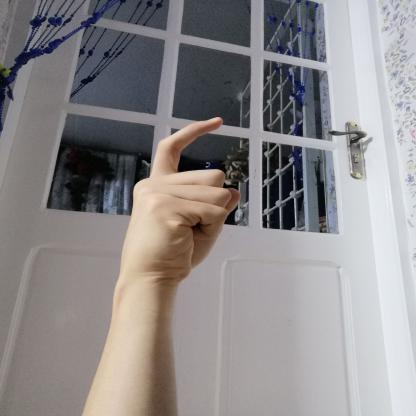RAA: (108, 107, 250, 292)
